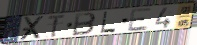4: (154, 6, 173, 29)
B: (72, 12, 98, 37)
E: (127, 7, 153, 33)
L: (99, 11, 117, 34)
T: (47, 14, 67, 39)
X: (18, 15, 46, 42)
